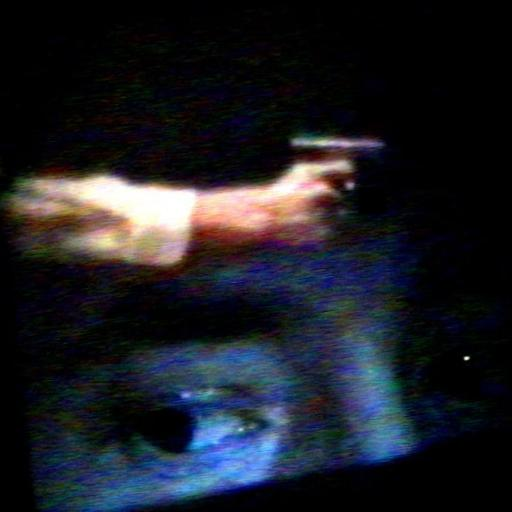Handgun: (280, 114, 392, 214)
